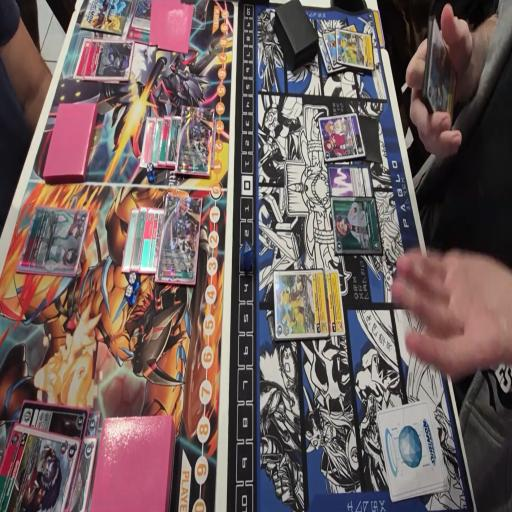card: (0, 420, 82, 512), (20, 206, 90, 278), (272, 265, 329, 345), (155, 192, 204, 284), (330, 196, 384, 258), (62, 432, 99, 512), (174, 107, 216, 175), (19, 399, 90, 437), (318, 109, 365, 163), (85, 40, 134, 81), (138, 207, 166, 272), (322, 23, 358, 68), (325, 168, 374, 200), (337, 29, 375, 70), (323, 274, 346, 339), (129, 207, 148, 273), (121, 208, 140, 274), (127, 0, 156, 42), (73, 38, 95, 79), (140, 116, 156, 172), (150, 115, 166, 168), (158, 116, 172, 168), (85, 405, 105, 441), (166, 118, 180, 168), (318, 36, 336, 74)
